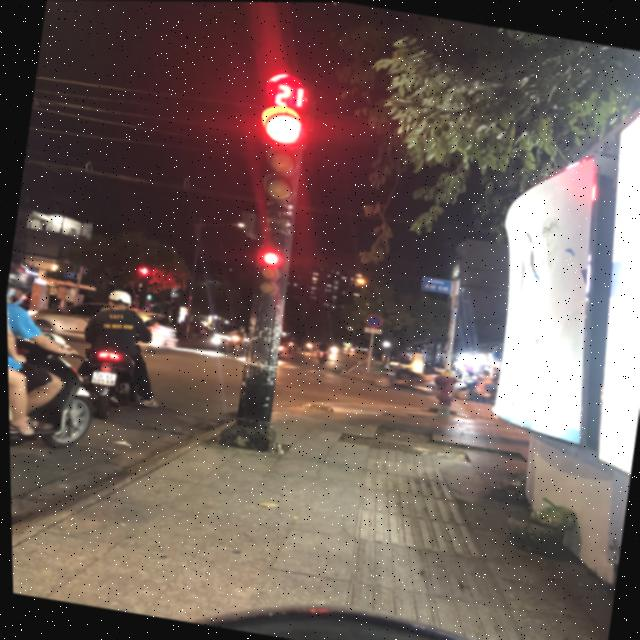Red: (243, 102, 310, 207), (250, 242, 290, 301)
